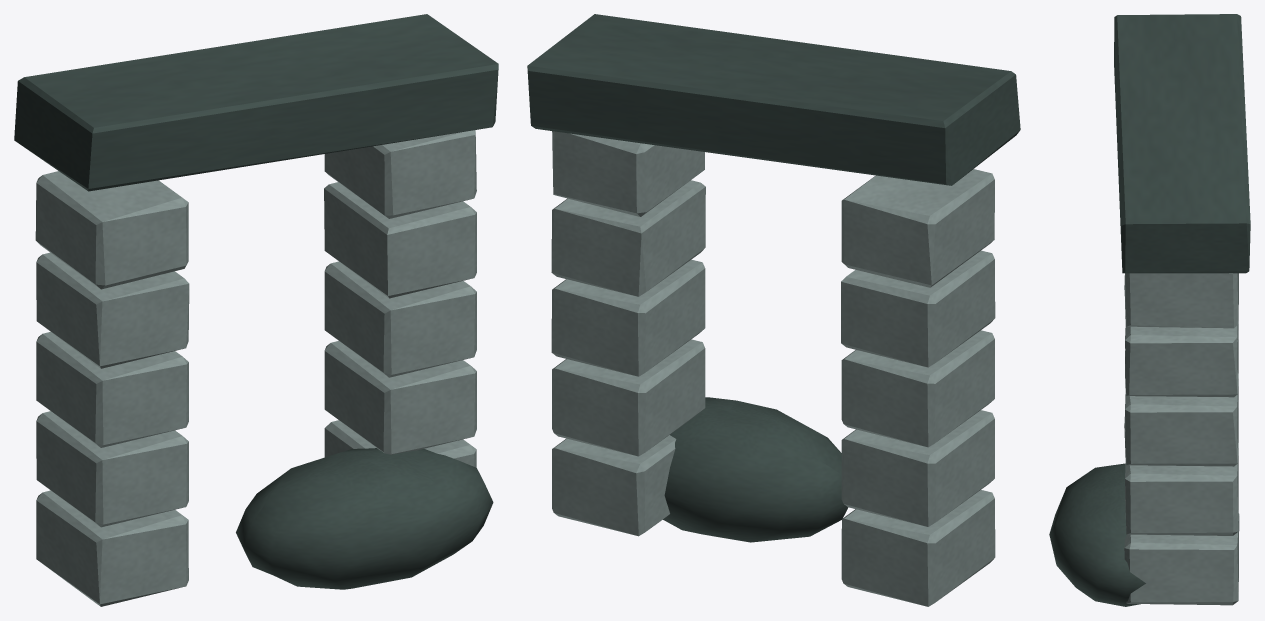
Rendered from SM_ruin_LOD2.fbx.
The picture shows the model from 3 angles, left to right: view 1: azimuth 30°, elevation 25°; view 2: azimuth 150°, elevation 25°; view 3: azimuth 270°, elevation 25°; orthographic projection. The views are drawn at different scales.
Visible parts, largest first — view 1: SM_ruin_LOD2; view 2: SM_ruin_LOD2; view 3: SM_ruin_LOD2.
Boxes of the visible parts, box(x1,y1,x2,y2) form: SM_ruin_LOD2: box(14, 14, 498, 606); SM_ruin_LOD2: box(527, 14, 1020, 606); SM_ruin_LOD2: box(1049, 14, 1250, 606).
Bounding box in the file's own units: 1.66 × 0.7901 × 1.96.
